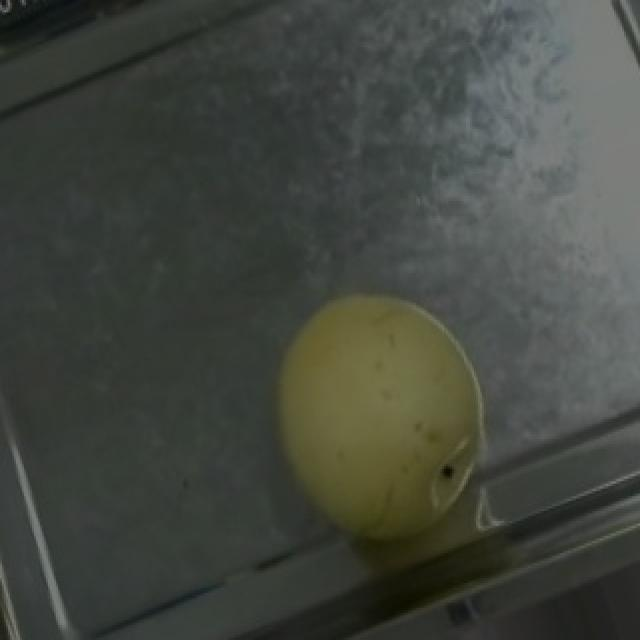Fruit: (224, 248, 528, 600)
